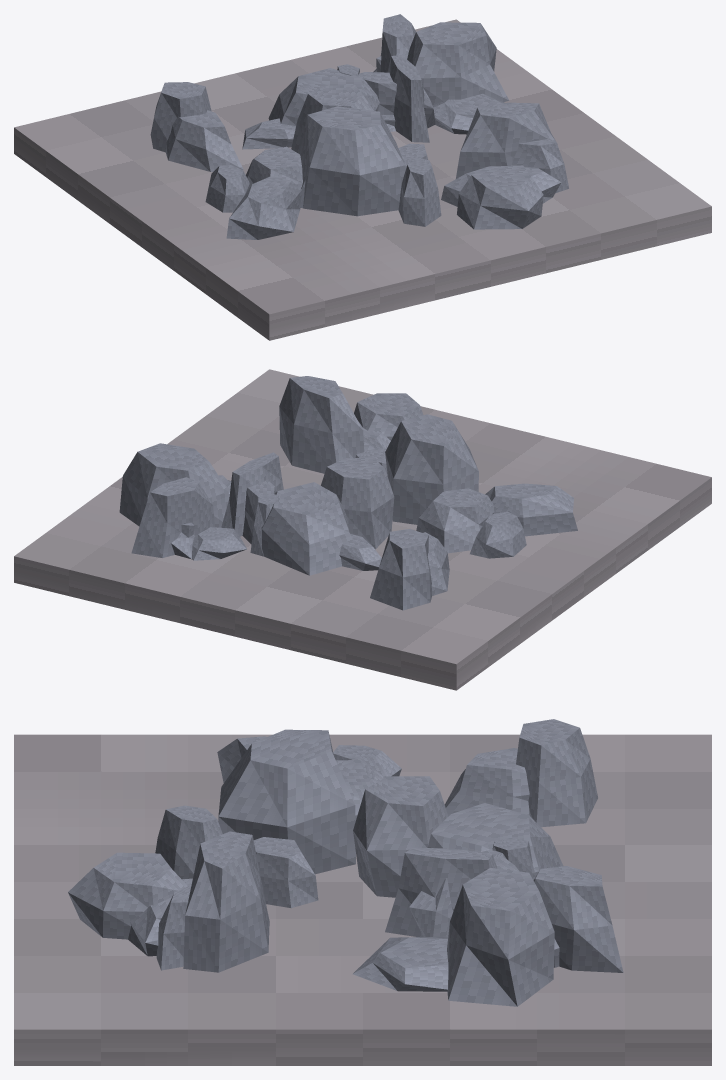
File: cave-and-crystal-networks-shaft-bottom-45e18fea.glb
The picture shows the model from 3 angles, top to bottom: view 1: azimuth 30°, elevation 25°; view 2: azimuth 150°, elevation 25°; view 3: azimuth 270°, elevation 25°; orthographic projection. The views are drawn at different scales.
Visible parts, largest first — view 1: shaft-bottom; view 2: shaft-bottom; view 3: shaft-bottom.
Part boxes in pixels (box(x1,y1,x2,y2)): shaft-bottom: box(14, 14, 711, 340); shaft-bottom: box(14, 369, 711, 690); shaft-bottom: box(14, 719, 711, 1065).
Size of the model in its own units: 3.5 by 0.7896 by 3.5.
Materials: 2 (2 with a texture image).
